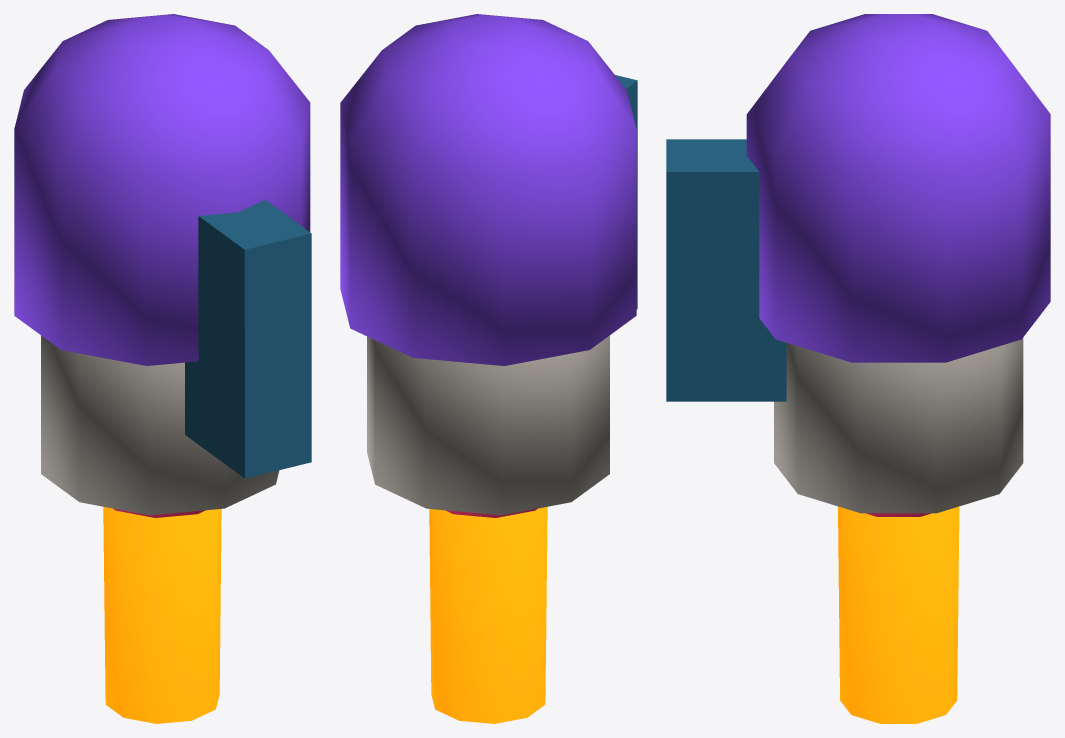
Rendered from directional.glb.
The picture shows the model from 3 angles, left to right: view 1: azimuth 30°, elevation 25°; view 2: azimuth 150°, elevation 25°; view 3: azimuth 270°, elevation 25°; orthographic projection.
Visible parts, largest first — view 1: Cylinder.026, boost-part.006; view 2: Cylinder.026, boost-part.006; view 3: Cylinder.026, boost-part.006.
Boxes of the visible parts, box(x1,y1,x2,y2) form: Cylinder.026: box(14, 14, 311, 517); boost-part.006: box(103, 506, 221, 723); Cylinder.026: box(340, 14, 637, 517); boost-part.006: box(429, 506, 547, 723); Cylinder.026: box(666, 14, 1050, 516); boost-part.006: box(838, 506, 959, 723).
Size of the model in its own units: 0.1072 by 0.2743 by 0.1426.
